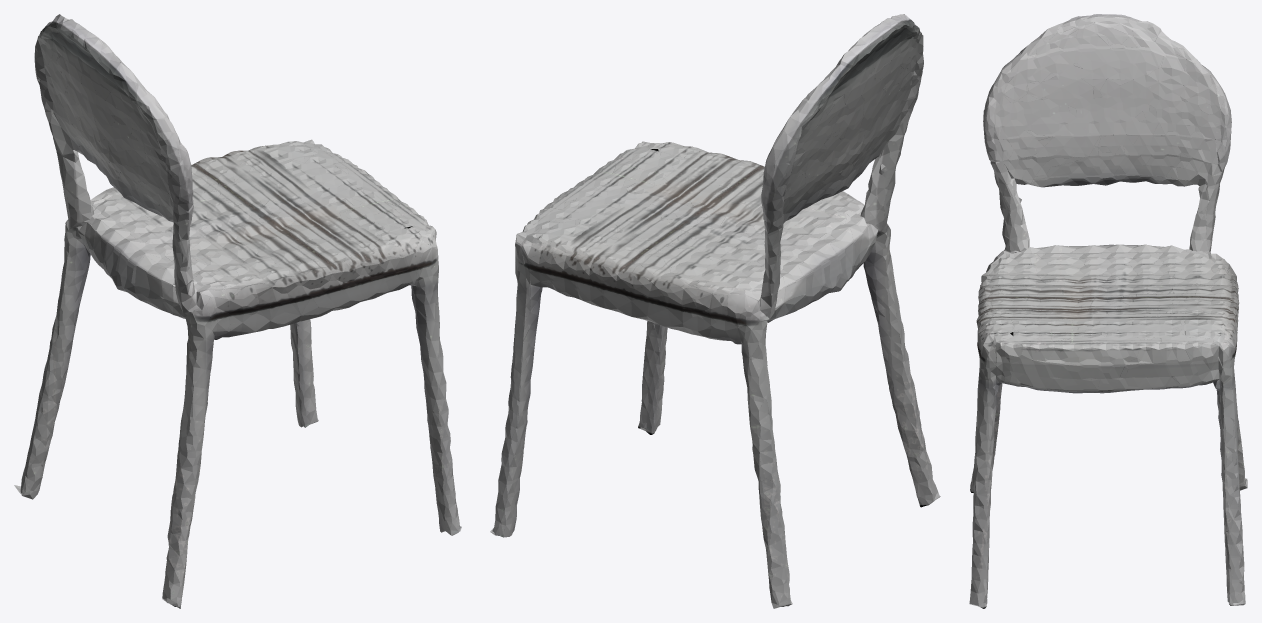
File: elem_94_115_206_213_9_3.obj
3 renders of one model, left to right at view 1: azimuth 30°, elevation 25°; view 2: azimuth 150°, elevation 25°; view 3: azimuth 270°, elevation 25°, orthographic. The views are drawn at different scales.
Bounding box in the file's own units: 0.4444 × 0.7057 × 0.3801.
1 material, 1 textured.
